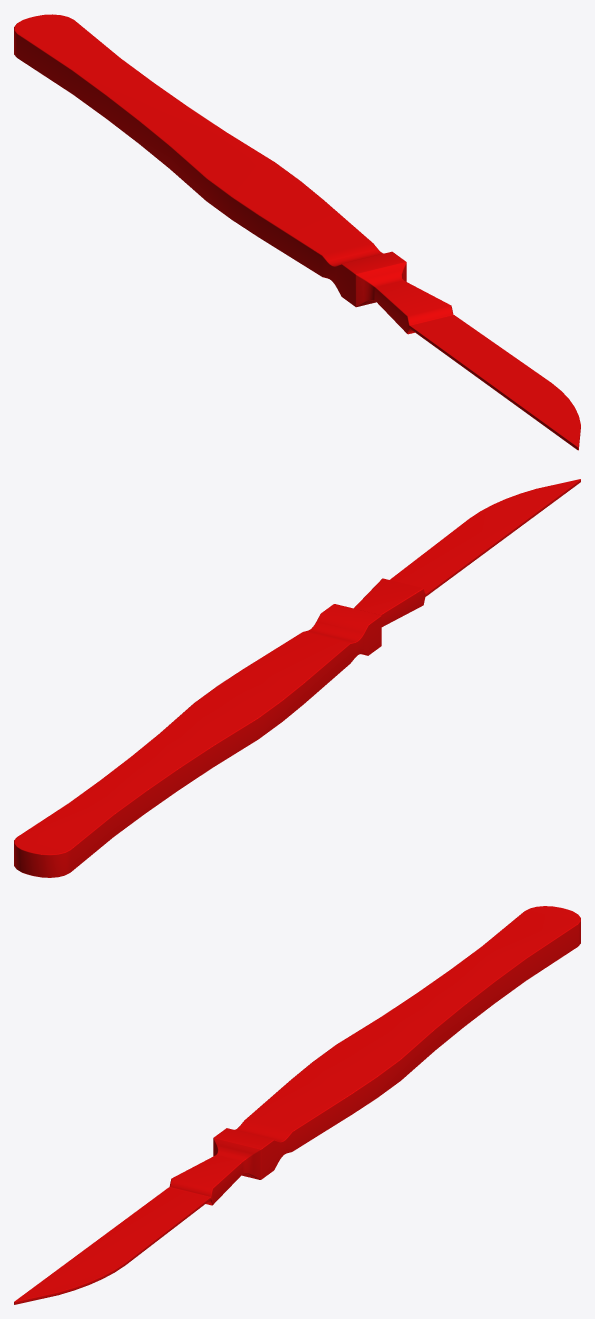
The model's file is Medical_instrument_6.fbx.
3 views of the same model, one above another, from view 1: azimuth 30°, elevation 25°; view 2: azimuth 150°, elevation 25°; view 3: azimuth 330°, elevation 25° (orthographic). The views are drawn at different scales.
Parts seen in each view (by area): view 1: L36:pCube280; view 2: L36:pCube280; view 3: L36:pCube280.
Part boxes in pixels (x1,y1,x2,y2): L36:pCube280: (14,14,580,450); L36:pCube280: (14,479,580,877); L36:pCube280: (14,906,580,1304).
Size of the model in its own units: 1.92 by 0.8907 by 27.37.
